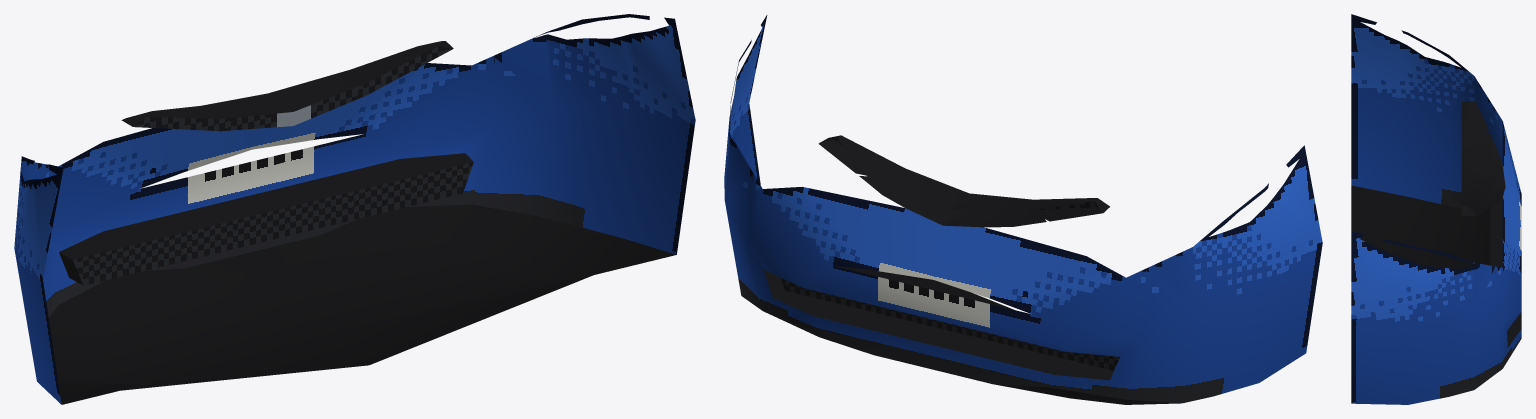
Rendered from bumper_F_lip.glb.
The picture shows the model from 3 angles, left to right: view 1: azimuth 30°, elevation 25°; view 2: azimuth 150°, elevation 25°; view 3: azimuth 270°, elevation 25°; orthographic projection. The views are drawn at different scales.
Parts seen in each view (by area): view 1: bumper_F_lip; view 2: bumper_F_lip; view 3: bumper_F_lip.
Part boxes in pixels (left/top/right/bottom): bumper_F_lip: left=14, top=14, right=695, bottom=404; bumper_F_lip: left=724, top=15, right=1322, bottom=404; bumper_F_lip: left=1351, top=14, right=1521, bottom=404.
Size of the model in its own units: 1.74 by 0.6913 by 0.54.
1 material, 1 textured.
